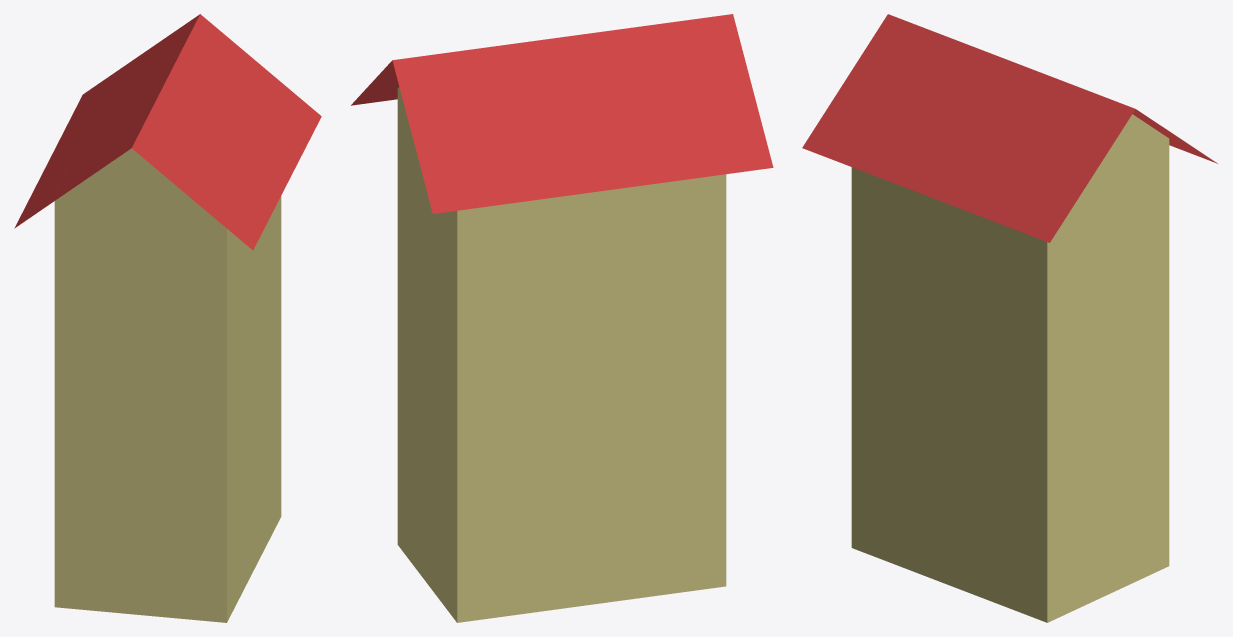
3 views of the same model, side by side, from view 1: azimuth 30°, elevation 25°; view 2: azimuth 150°, elevation 25°; view 3: azimuth 270°, elevation 25° (orthographic). The views are drawn at different scales.
Size of the model in its own units: 5.85 by 5.93 by 7.77.
